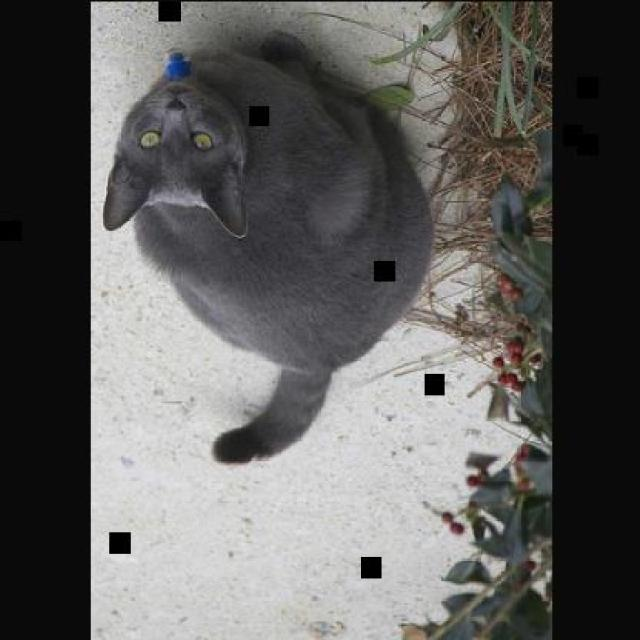unauthorized: (101, 29, 434, 465)
